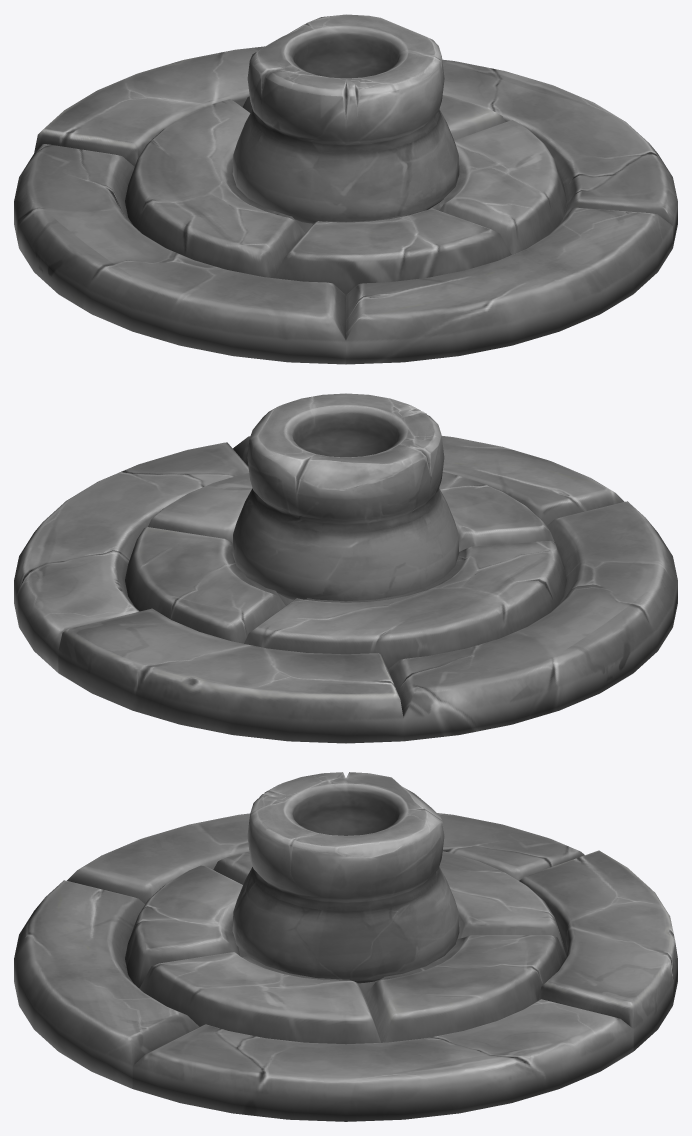
File: Stone03.fbx
3 views of the same model, one above another, from view 1: azimuth 30°, elevation 25°; view 2: azimuth 150°, elevation 25°; view 3: azimuth 270°, elevation 25° (orthographic).
Visible parts, largest first — view 1: Stone03; view 2: Stone03; view 3: Stone03.
Boxes of the visible parts, x1=… form: Stone03: x1=14, y1=14, x2=677, y2=364; Stone03: x1=14, y1=393, x2=677, y2=743; Stone03: x1=14, y1=772, x2=677, y2=1121.
Bounding box in the file's own units: 7.58 × 2.16 × 7.58.
